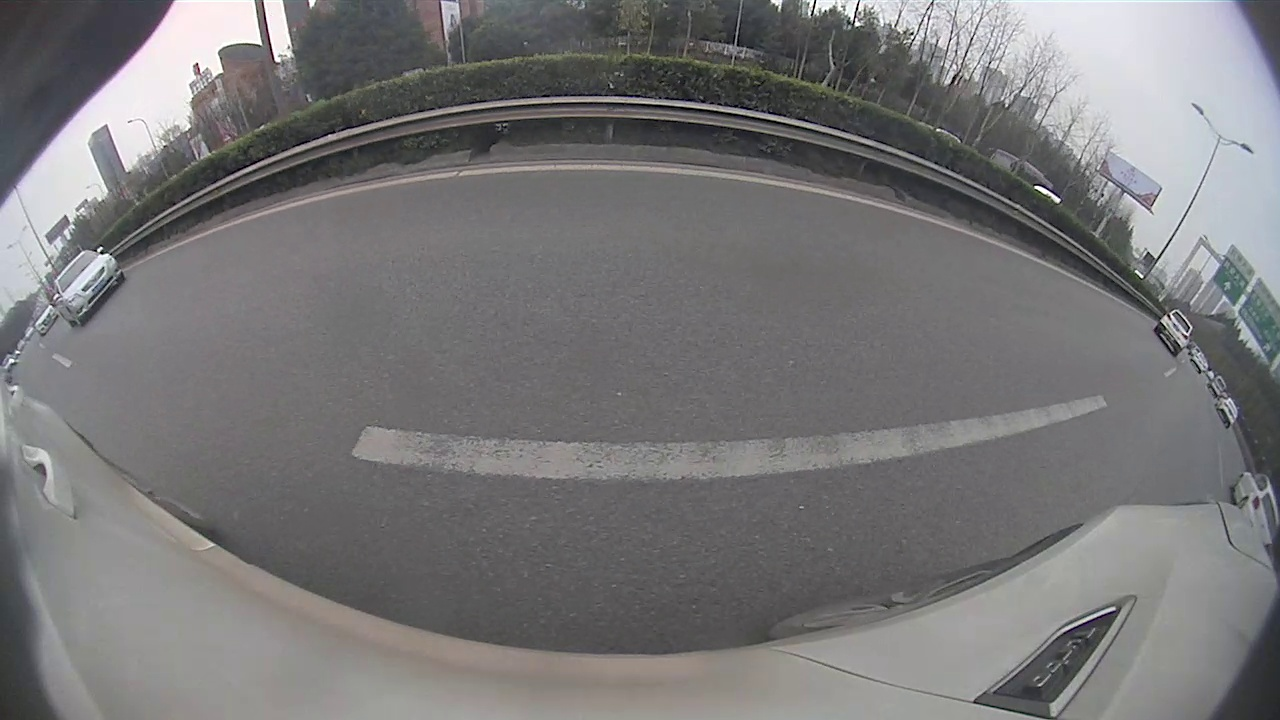car: (49, 248, 124, 333), (1154, 305, 1193, 357)
